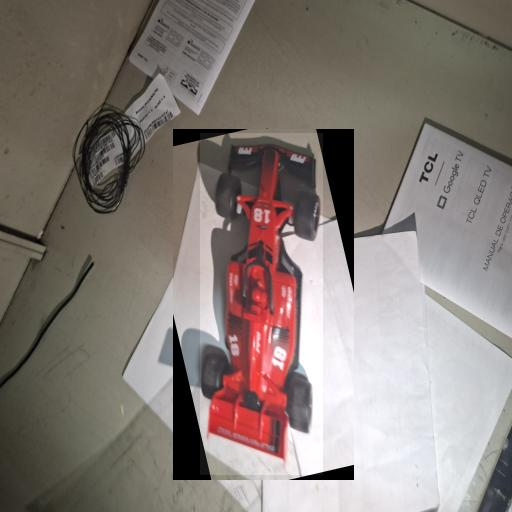carro: (201, 134, 323, 475)
